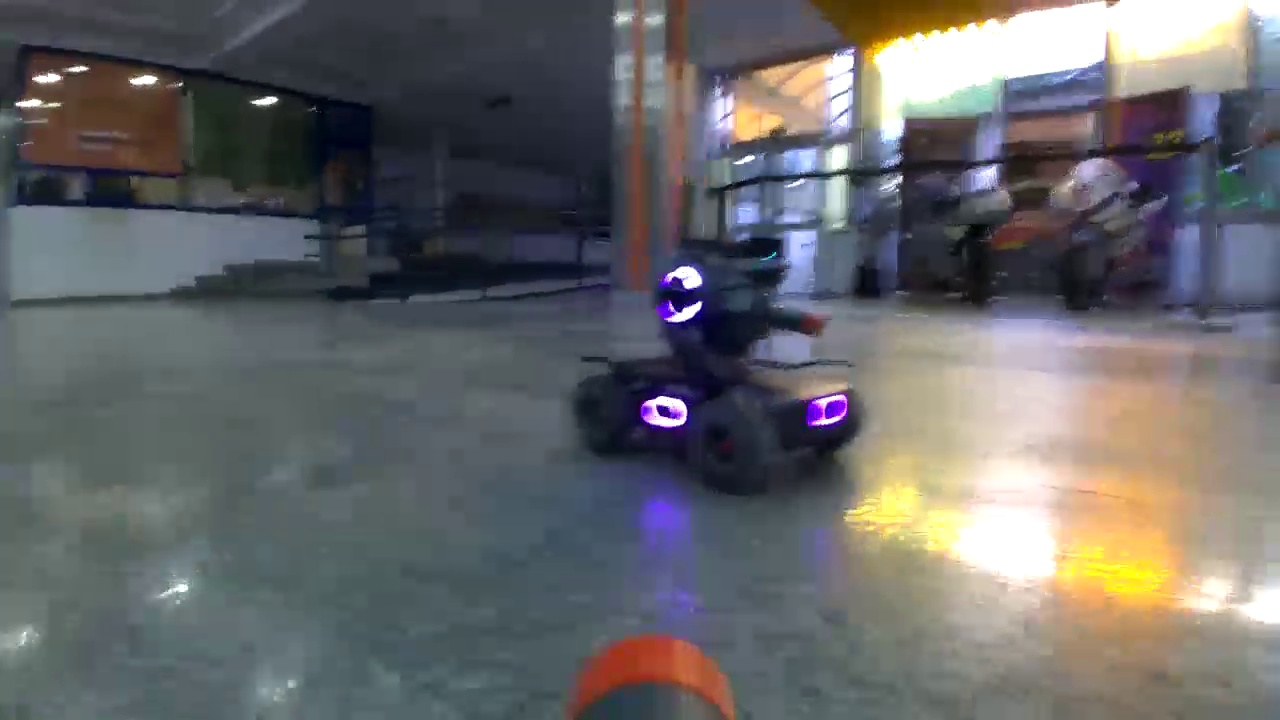robot: (573, 258, 862, 495)
